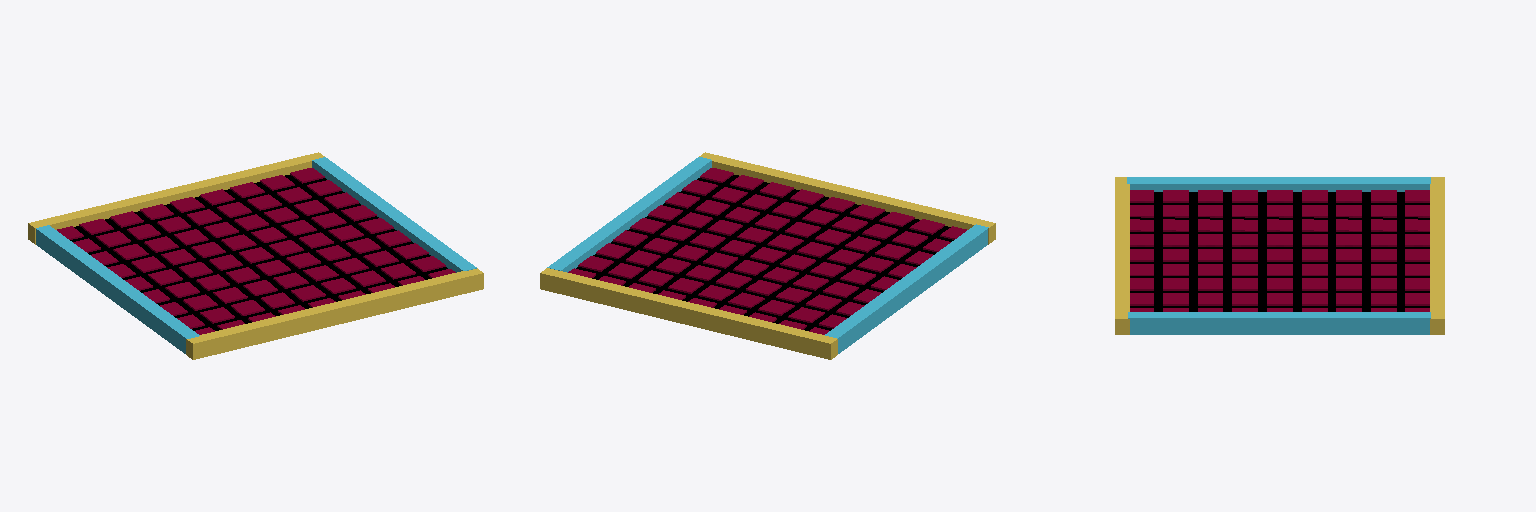
Rendered from dis the .obj !.obj.
The picture shows the model from 3 angles: view 1: azimuth 30°, elevation 25°; view 2: azimuth 150°, elevation 25°; view 3: azimuth 270°, elevation 25°; orthographic projection.
Parts seen in each view (by area): view 1: Plane001, Box016, Box014, Box017, Box015, Box010, Box006, Box007, Box008, Box011, Box009, Box005 (+2 smaller); view 2: Plane001, Box017, Box014, Box016, Box015, Box009, Box005, Box011, Box008, Box006, Box007, Box010 (+2 smaller); view 3: Plane001, Box015, Box014, Box005, Box006, Box008, Box011, Box007, Box009, Box003, Box010, Box012 (+2 smaller).
Boxes of the visible parts, x1=… form: Plane001: x1=70, y1=175, x2=447, y2=330; Box016: x1=186, y1=268, x2=483, y2=359; Box014: x1=36, y1=225, x2=199, y2=353; Box017: x1=28, y1=152, x2=324, y2=244; Box015: x1=312, y1=157, x2=476, y2=272; Box010: x1=160, y1=243, x2=428, y2=315; Box006: x1=107, y1=205, x2=376, y2=277; Box007: x1=91, y1=192, x2=358, y2=265; Box008: x1=125, y1=218, x2=393, y2=290; Box011: x1=177, y1=256, x2=445, y2=328; Box009: x1=143, y1=230, x2=410, y2=303; Box005: x1=73, y1=180, x2=341, y2=252; Plane001: x1=576, y1=175, x2=953, y2=330; Box017: x1=540, y1=268, x2=837, y2=359; Box014: x1=825, y1=224, x2=988, y2=353; Box016: x1=699, y1=152, x2=995, y2=244; Box015: x1=547, y1=157, x2=711, y2=272; Box009: x1=648, y1=205, x2=916, y2=277; Box005: x1=578, y1=256, x2=846, y2=328; Box011: x1=682, y1=180, x2=950, y2=252; Box008: x1=630, y1=218, x2=898, y2=290; Box006: x1=613, y1=230, x2=880, y2=303; Box007: x1=596, y1=243, x2=864, y2=315; Box010: x1=665, y1=192, x2=932, y2=264; Plane001: x1=1130, y1=192, x2=1429, y2=311; Box015: x1=1128, y1=312, x2=1430, y2=334; Box014: x1=1127, y1=177, x2=1430, y2=191; Box005: x1=1371, y1=190, x2=1396, y2=311; Box006: x1=1302, y1=190, x2=1327, y2=311; Box008: x1=1267, y1=190, x2=1292, y2=311; Box011: x1=1163, y1=190, x2=1188, y2=311; Box007: x1=1336, y1=190, x2=1361, y2=311; Box009: x1=1232, y1=190, x2=1257, y2=311; Box003: x1=1405, y1=190, x2=1429, y2=311; Box010: x1=1198, y1=190, x2=1222, y2=311; Box012: x1=1130, y1=190, x2=1153, y2=311.
Size of the model in its own units: 280 by 15.4 by 275.